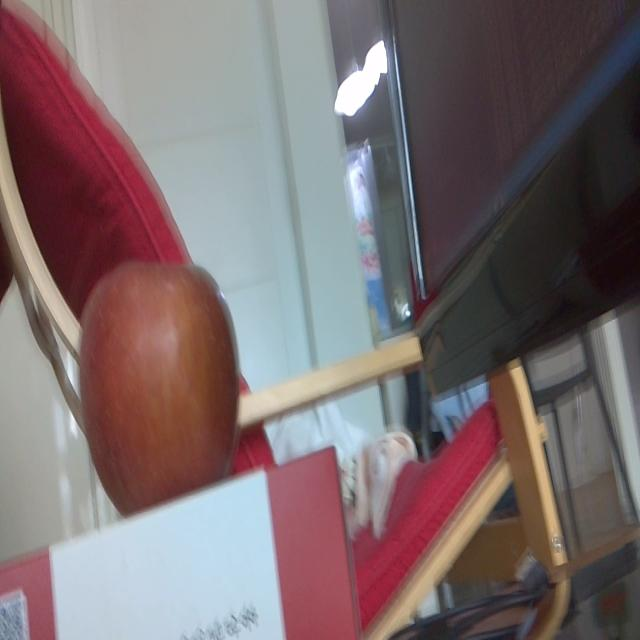apple: (78, 262, 238, 479)
